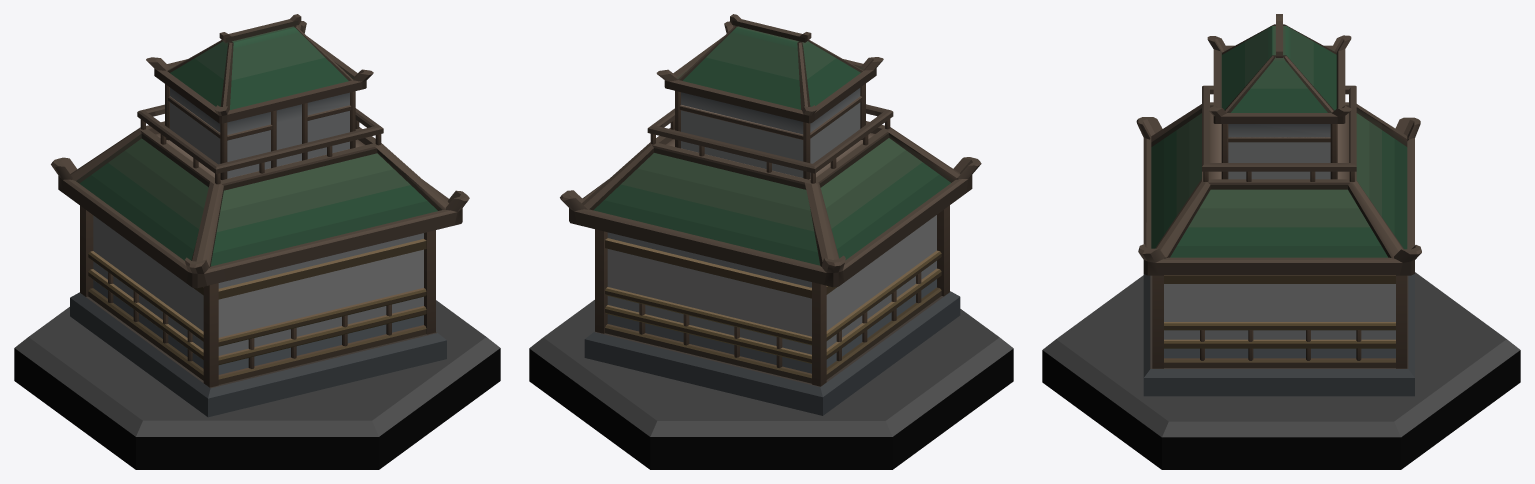
The model's file is samuraiCastle.fbx.
3 renders of one model, left to right at view 1: azimuth 30°, elevation 25°; view 2: azimuth 150°, elevation 25°; view 3: azimuth 270°, elevation 25°, orthographic.
Visible parts, largest first — view 1: samuraiCastle; view 2: samuraiCastle; view 3: samuraiCastle.
Boxes of the visible parts, box(x1,y1,x2,y2) form: samuraiCastle: box(14, 14, 500, 469); samuraiCastle: box(529, 14, 1013, 469); samuraiCastle: box(1042, 14, 1520, 469).
Bounding box in the file's own units: 1.73 × 1.62 × 2.
